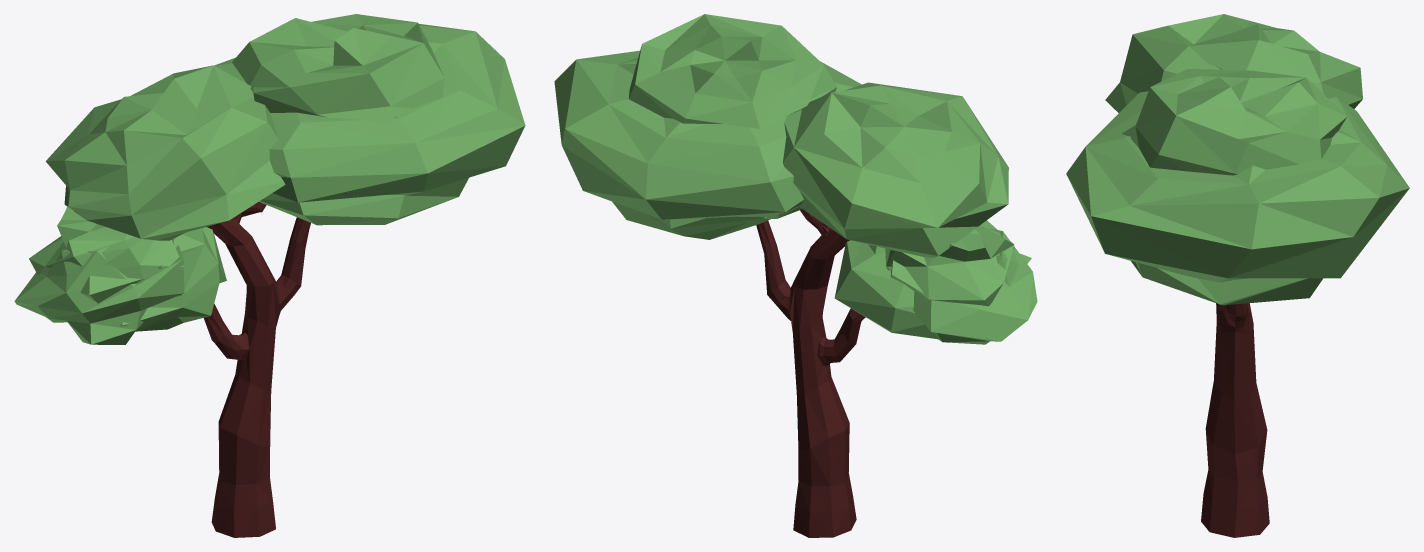
The model's file is 01_treeC_01.fbx.
The picture shows the model from 3 angles, left to right: view 1: azimuth 30°, elevation 25°; view 2: azimuth 150°, elevation 25°; view 3: azimuth 270°, elevation 25°; orthographic projection. The views are drawn at different scales.
Parts seen in each view (by area): view 1: _treeCopaC_01, _treeTroncoC_01; view 2: _treeCopaC_01, _treeTroncoC_01; view 3: _treeCopaC_01, _treeTroncoC_01.
Boxes of the visible parts, x1=… form: _treeCopaC_01: x1=14, y1=14, x2=525, y2=344; _treeTroncoC_01: x1=204, y1=202, x2=310, y2=537; _treeCopaC_01: x1=554, y1=14, x2=1037, y2=344; _treeTroncoC_01: x1=756, y1=209, x2=865, y2=537; _treeCopaC_01: x1=1066, y1=14, x2=1409, y2=305; _treeTroncoC_01: x1=1201, y1=303, x2=1269, y2=537.
Bounding box in the file's own units: 4.86 × 4.52 × 2.86.
